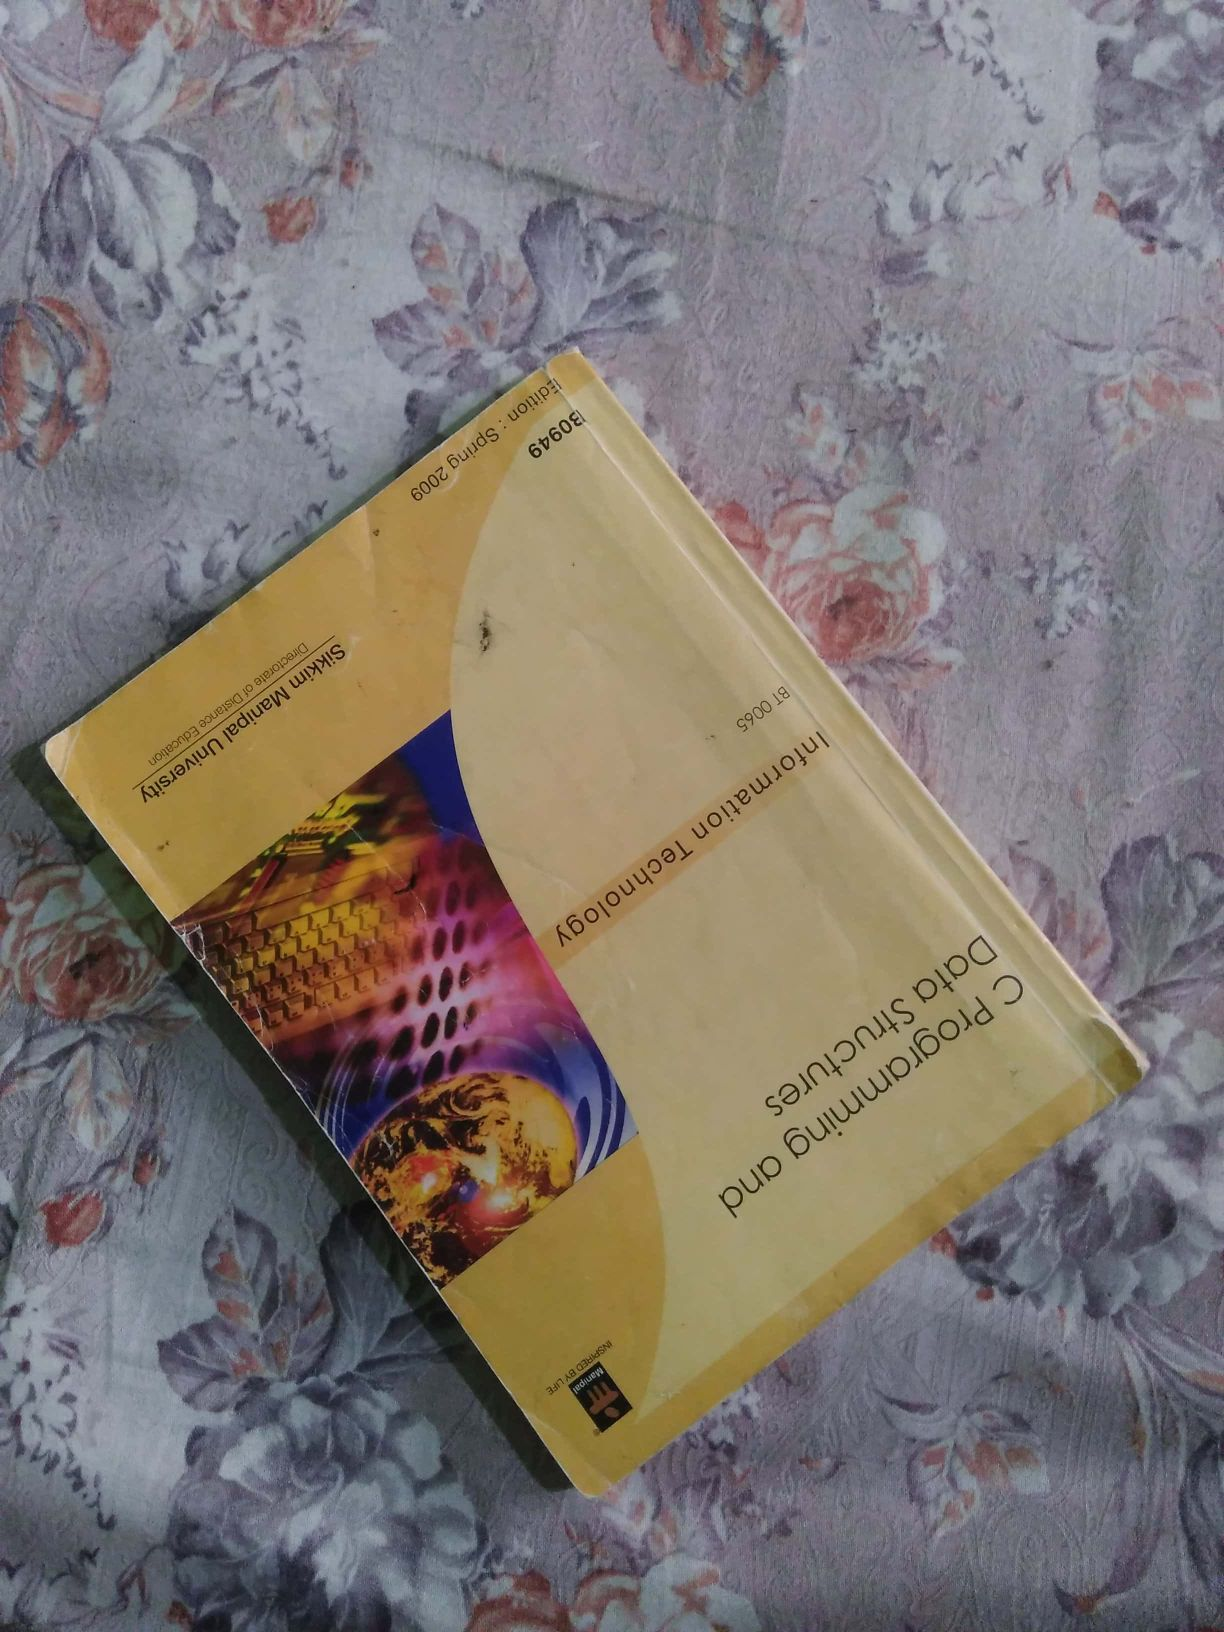clang: (49, 351, 1166, 1493)
